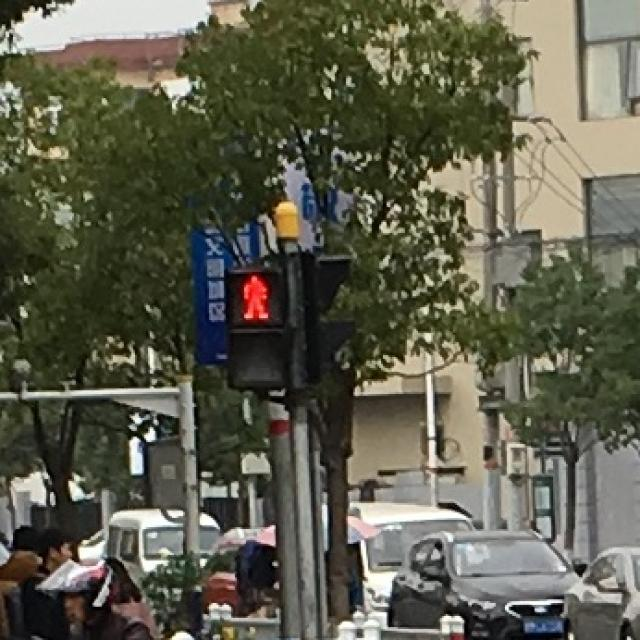red-crossing: (224, 268, 278, 320)
